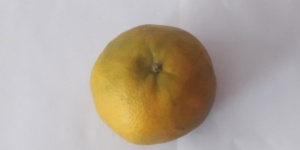BAD: (91, 21, 217, 146)
